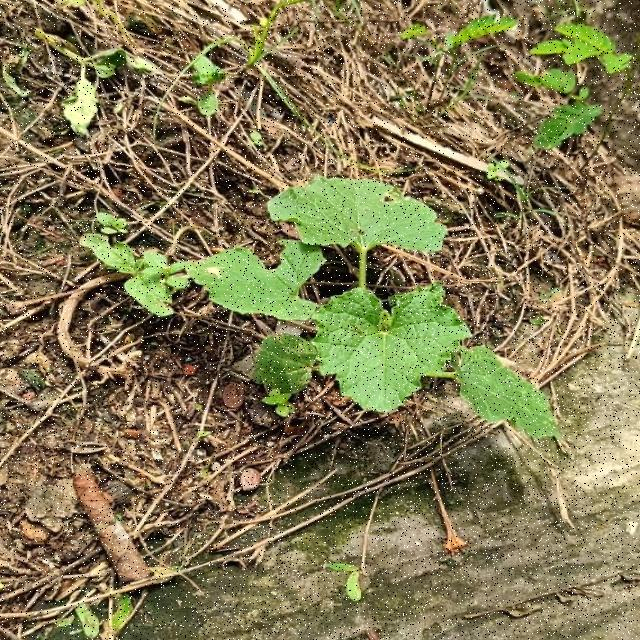plant: (81, 178, 558, 438)
